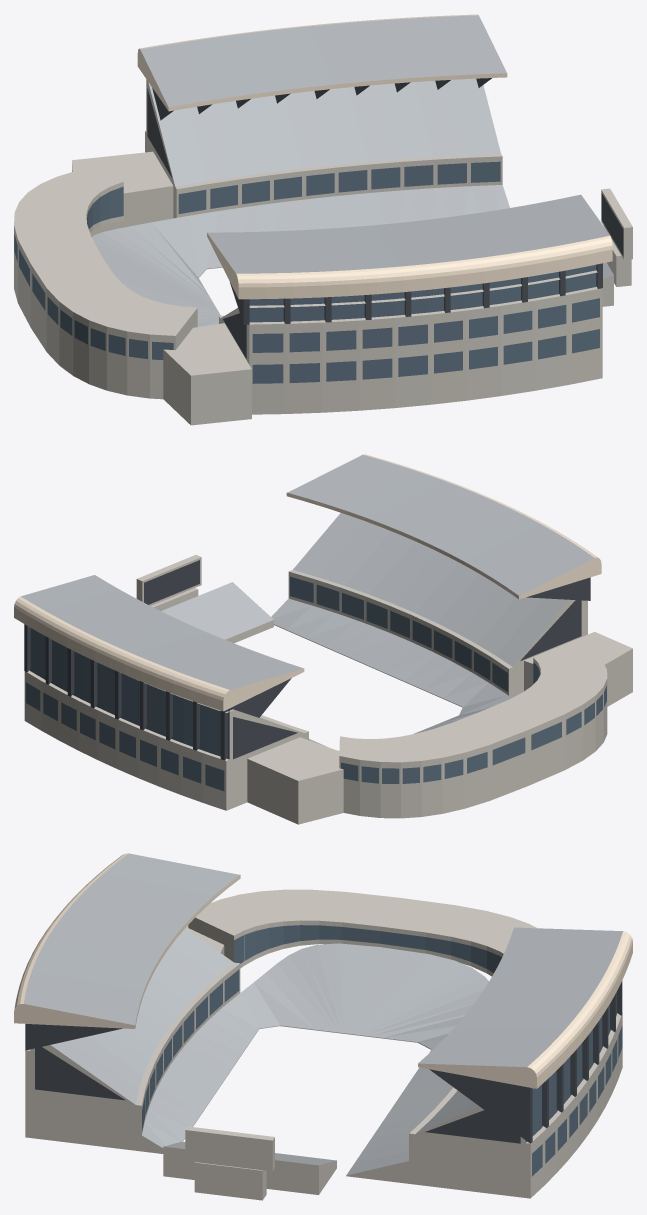
The model's file is detail.glb.
The picture shows the model from 3 angles, top to bottom: view 1: azimuth 30°, elevation 25°; view 2: azimuth 150°, elevation 25°; view 3: azimuth 270°, elevation 25°; orthographic projection. The views are drawn at different scales.
Visible parts, largest first — view 1: husky-stadium; view 2: husky-stadium; view 3: husky-stadium.
Boxes of the visible parts, left/top/right/bottom form: husky-stadium: left=14, top=14, right=632, bottom=425; husky-stadium: left=14, top=454, right=632, bottom=824; husky-stadium: left=14, top=853, right=632, bottom=1200.
Bounding box in the file's own units: 235 × 59.7 × 245.
